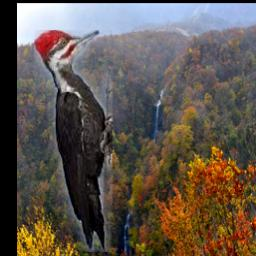Woodpecker: (35, 31, 114, 253)
